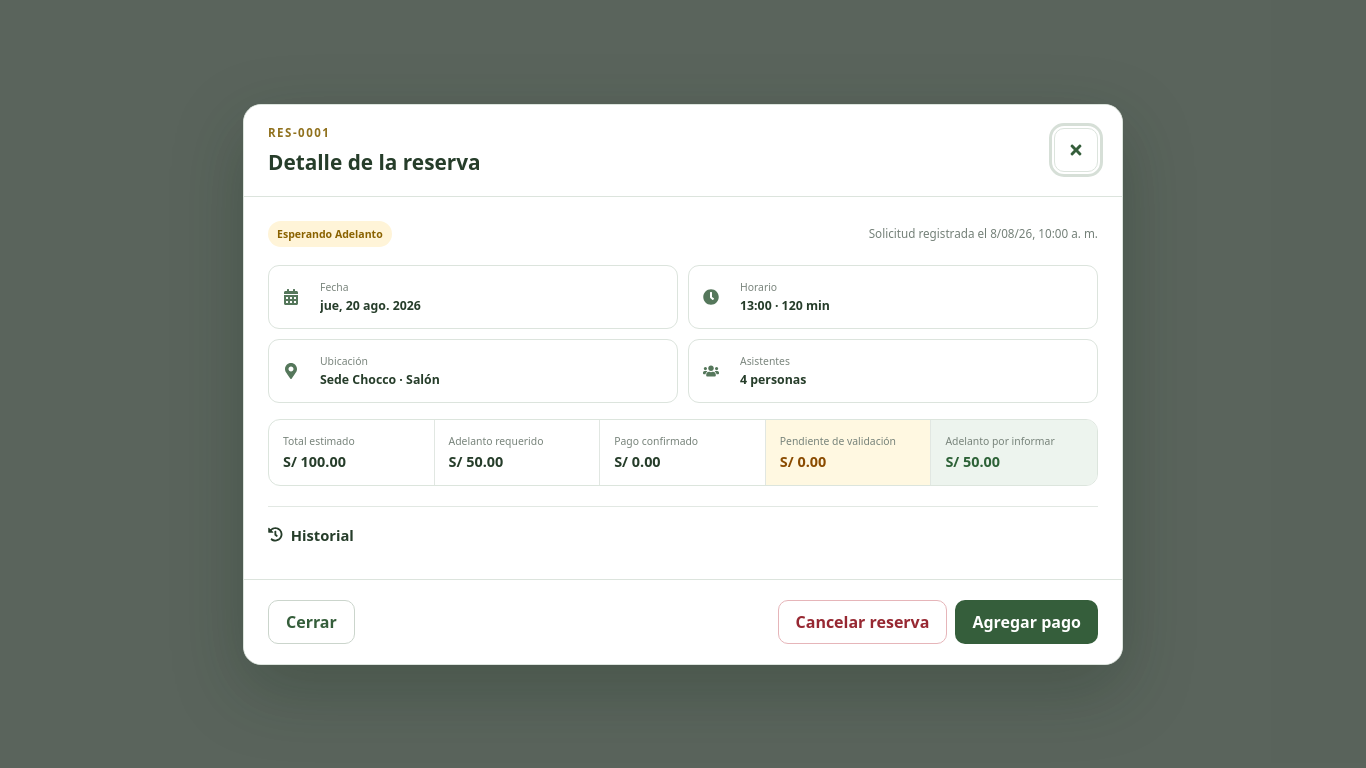
ReservationDetailDialog › abre el formulario y envía el pago para validación administrativa
Click the button "Agregar pago".
click(1027, 622)  # box [955,600,1098,644]
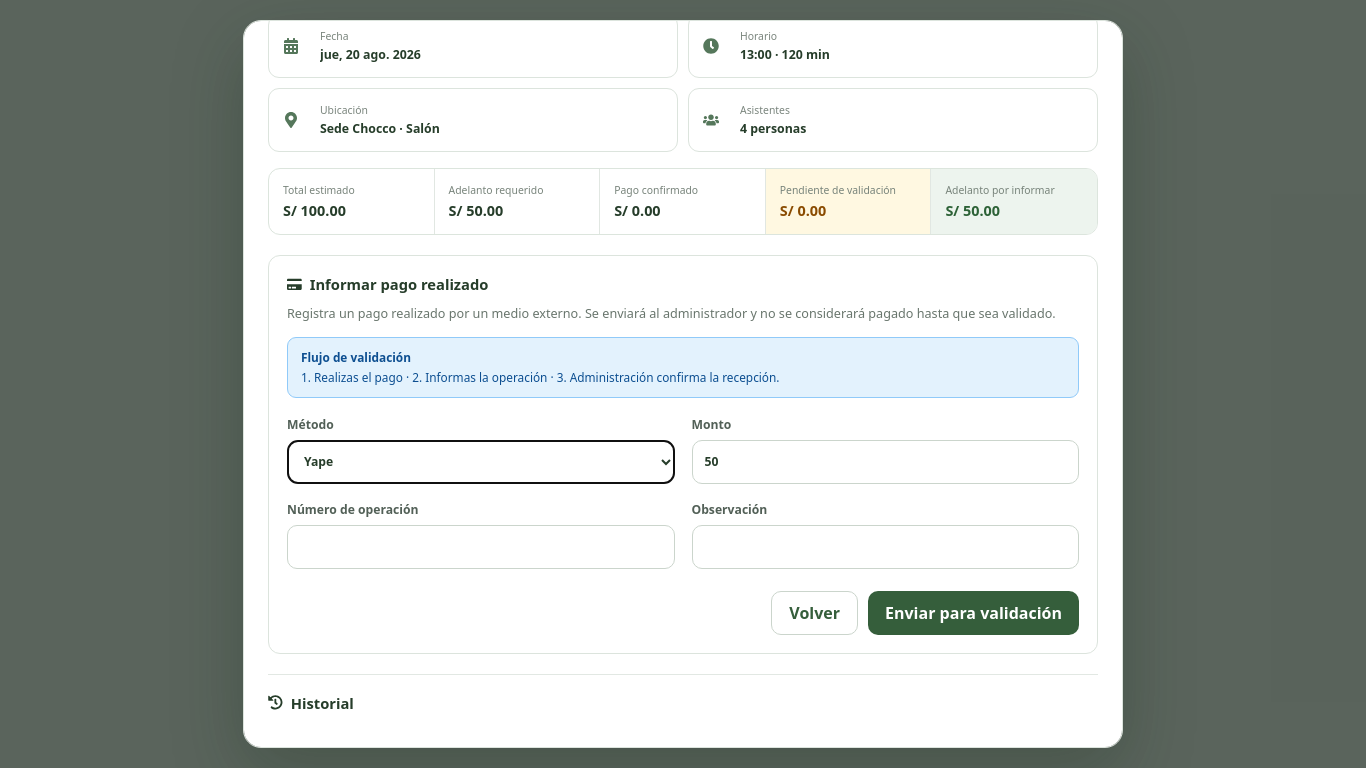
Expected: the heading "Informar pago realizado" is shown, [287,274,488,294]
Type "YP-123456" into the field labelled "Número de operación".
click(481, 547); type("YP-123456")  # box [287,525,674,569]
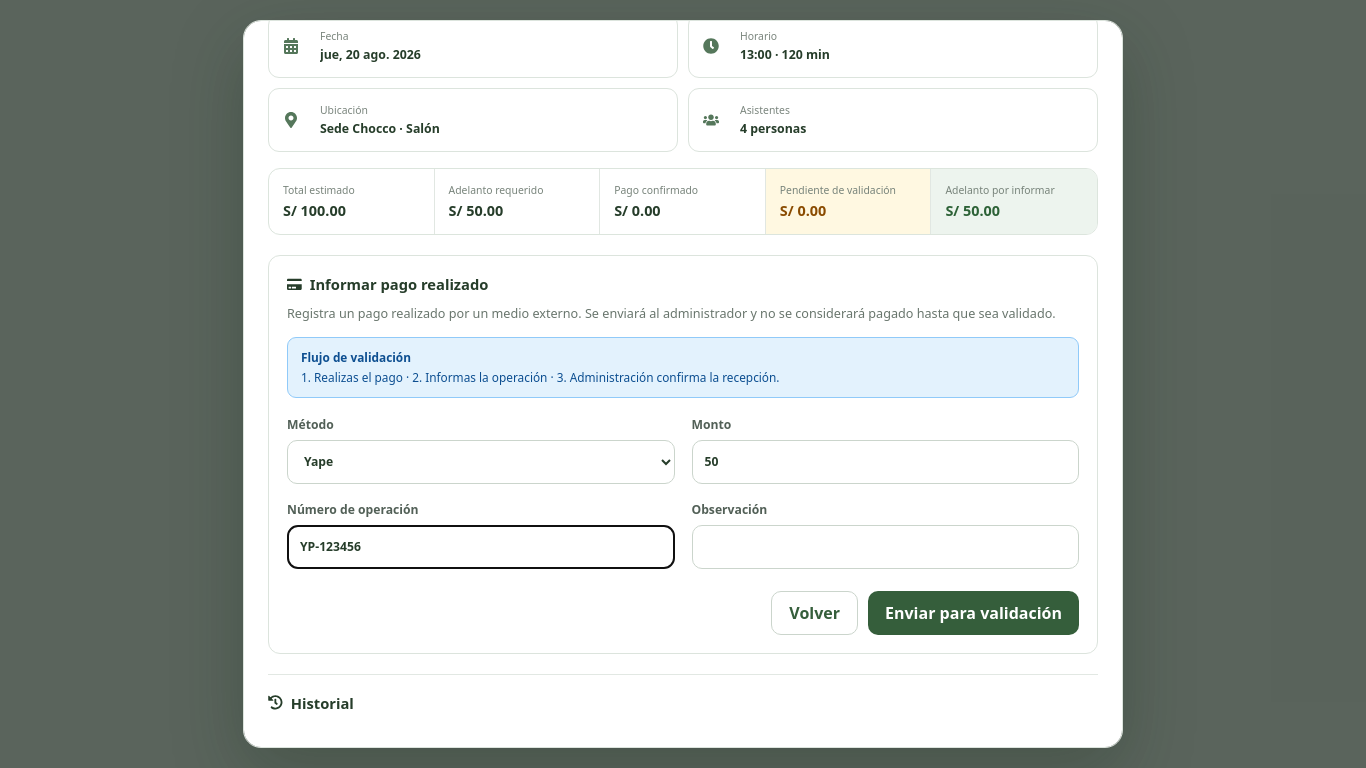
Click the button "Enviar para validación".
click(974, 613)  # box [868,591,1079,635]
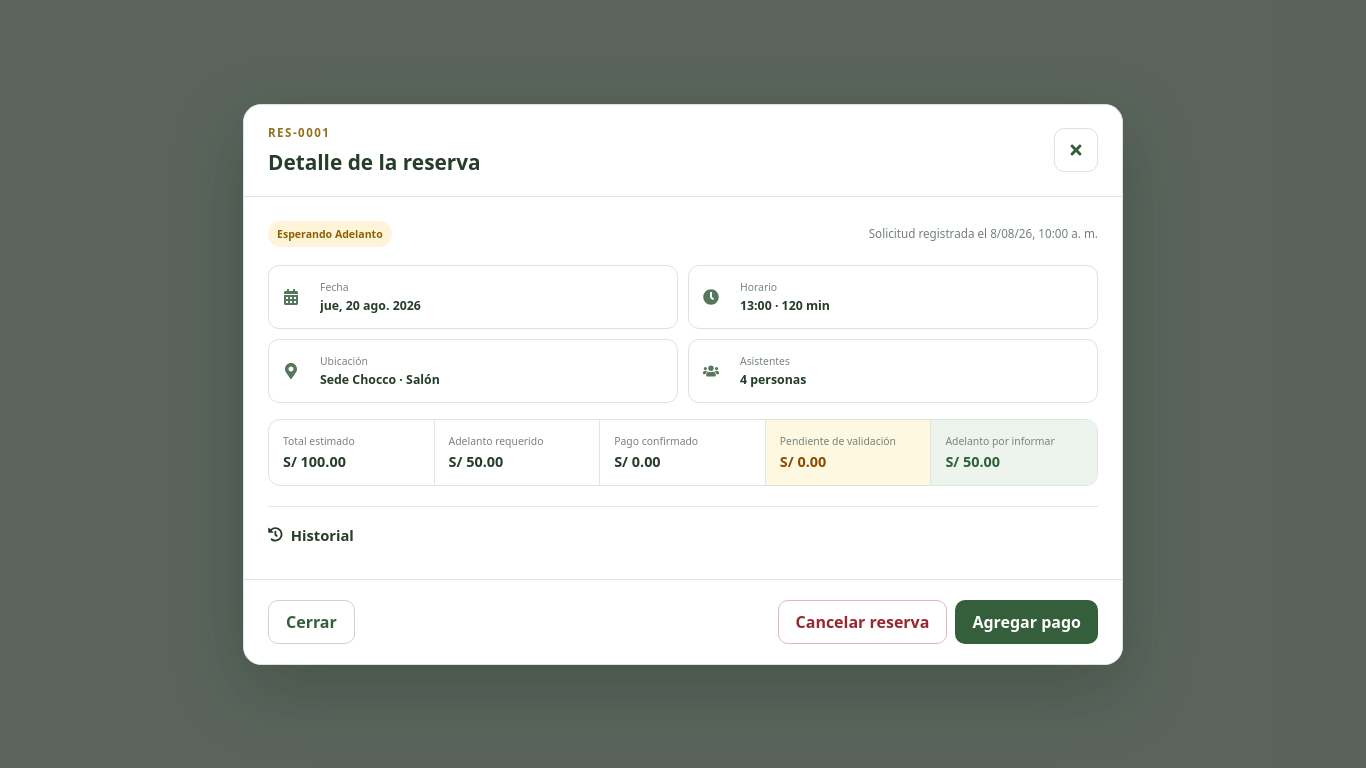
Expected: the heading "Informar pago realizado" is gone
